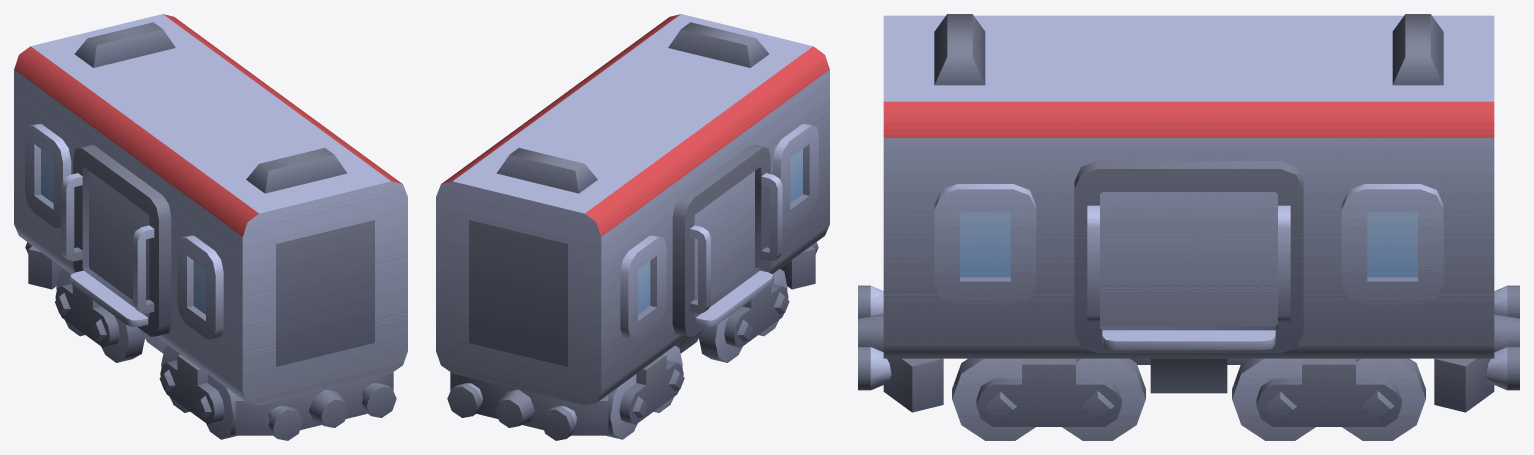
Rendered from train-electric-subway-c.glb.
3 views of the same model, side by side, from view 1: azimuth 30°, elevation 25°; view 2: azimuth 150°, elevation 25°; view 3: azimuth 270°, elevation 25° (orthographic). The views are drawn at different scales.
Parts seen in each view (by area): view 1: train-electric-subway-c, wheels-front, wheels-back; view 2: train-electric-subway-c, wheels-back, wheels-front; view 3: train-electric-subway-c, wheels-back, wheels-front.
Boxes of the visible parts, box(x1,y1,x2,y2) form: train-electric-subway-c: box(14, 14, 407, 440); wheels-front: box(159, 346, 237, 439); wheels-back: box(55, 269, 144, 362); train-electric-subway-c: box(436, 14, 829, 440); wheels-back: box(606, 346, 684, 439); wheels-front: box(699, 269, 789, 362); train-electric-subway-c: box(858, 14, 1519, 412); wheels-back: box(1232, 358, 1425, 440); wheels-front: box(952, 358, 1145, 440).
Bounding box in the file's own units: 1.35 × 1.57 × 2.6.
Materials: 1 (1 with a texture image).
